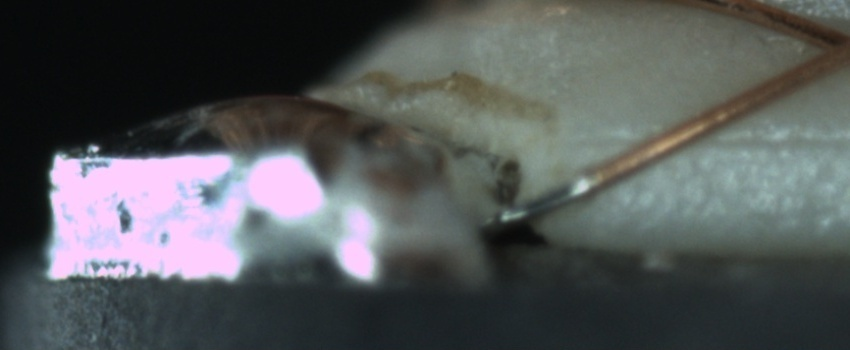CL: (798, 12, 850, 80)
DL: (599, 109, 849, 175)
TS: (494, 173, 595, 225)
